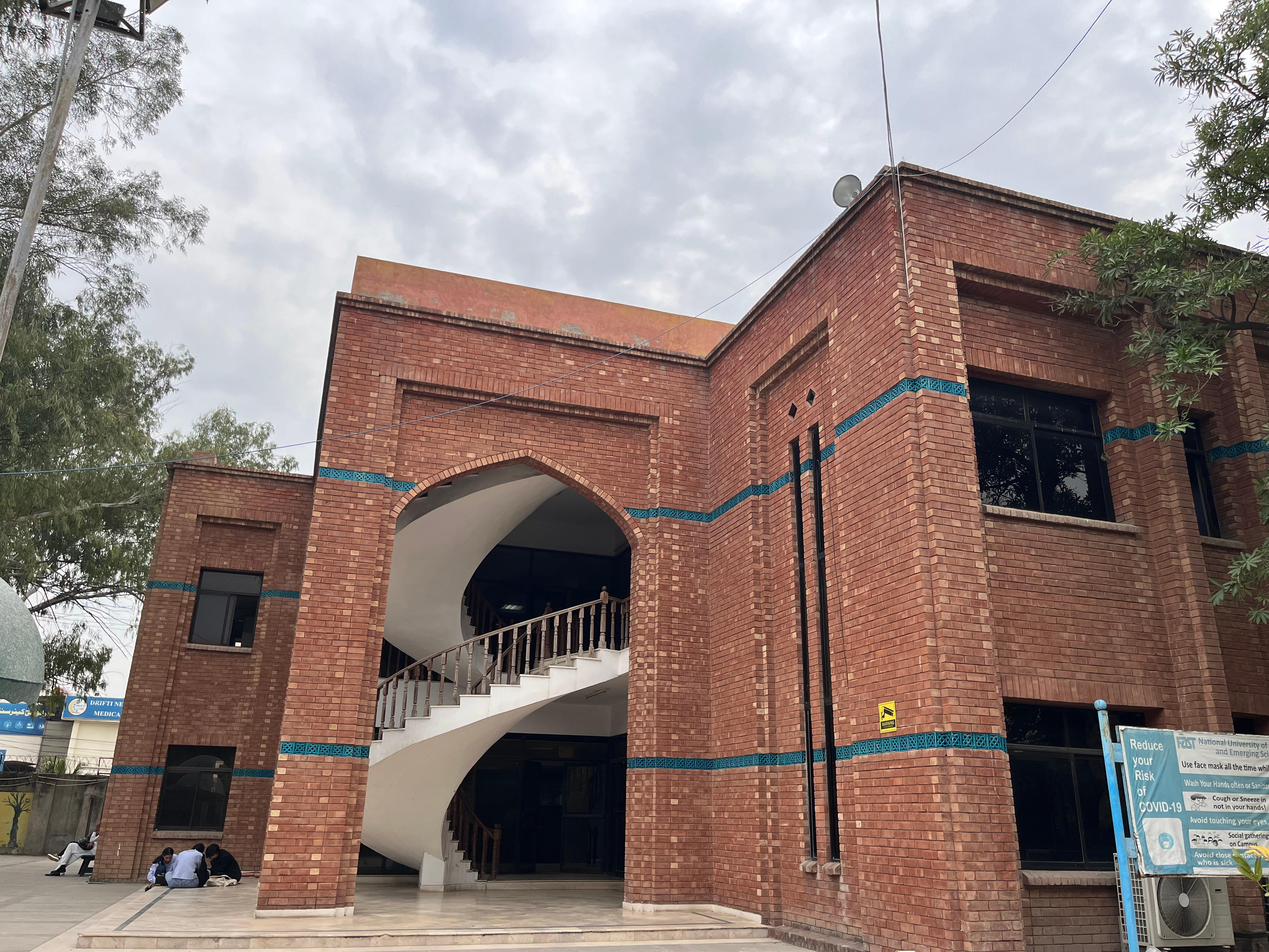Block A: (136, 156, 1269, 934)
